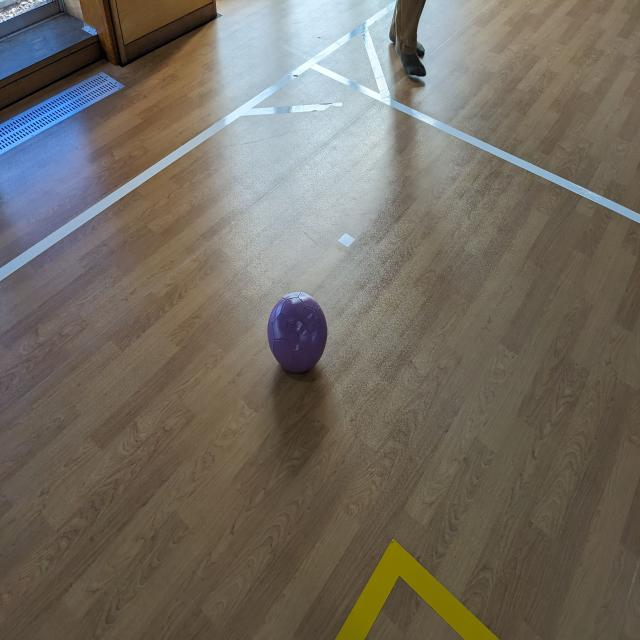purple_ball: (266, 290, 330, 373)
